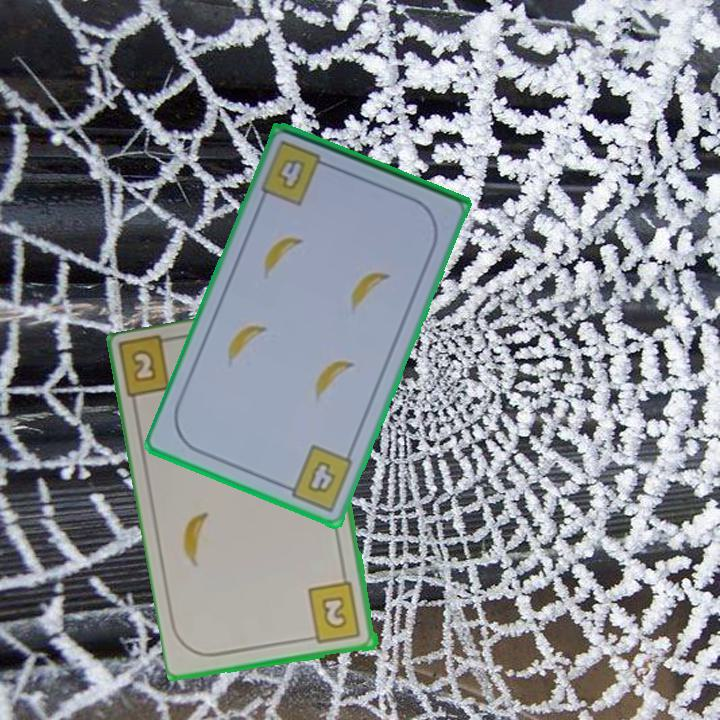2b: (303, 579, 364, 647), (128, 346, 160, 386)
4b: (278, 441, 356, 515), (257, 137, 336, 209)
